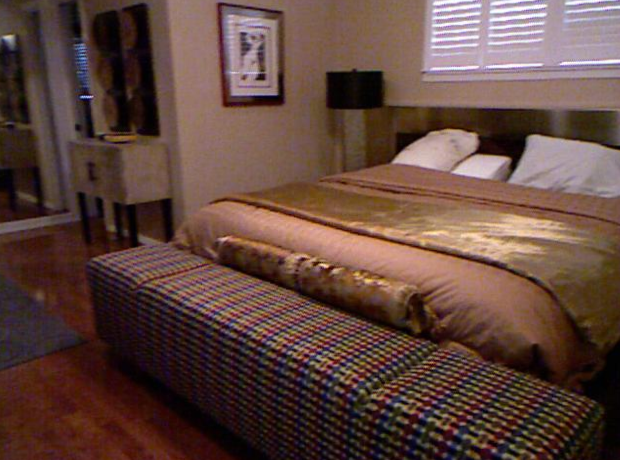cabinet: (80, 143, 172, 242)
cabinetDoor: (71, 143, 91, 189), (94, 150, 114, 196)
couch: (81, 245, 600, 460)
window: (430, 0, 620, 64)
